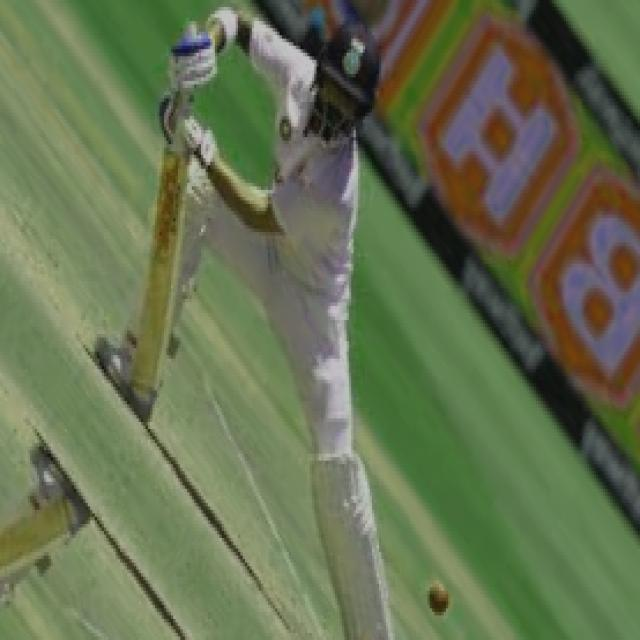toe: (131, 325, 166, 409)
